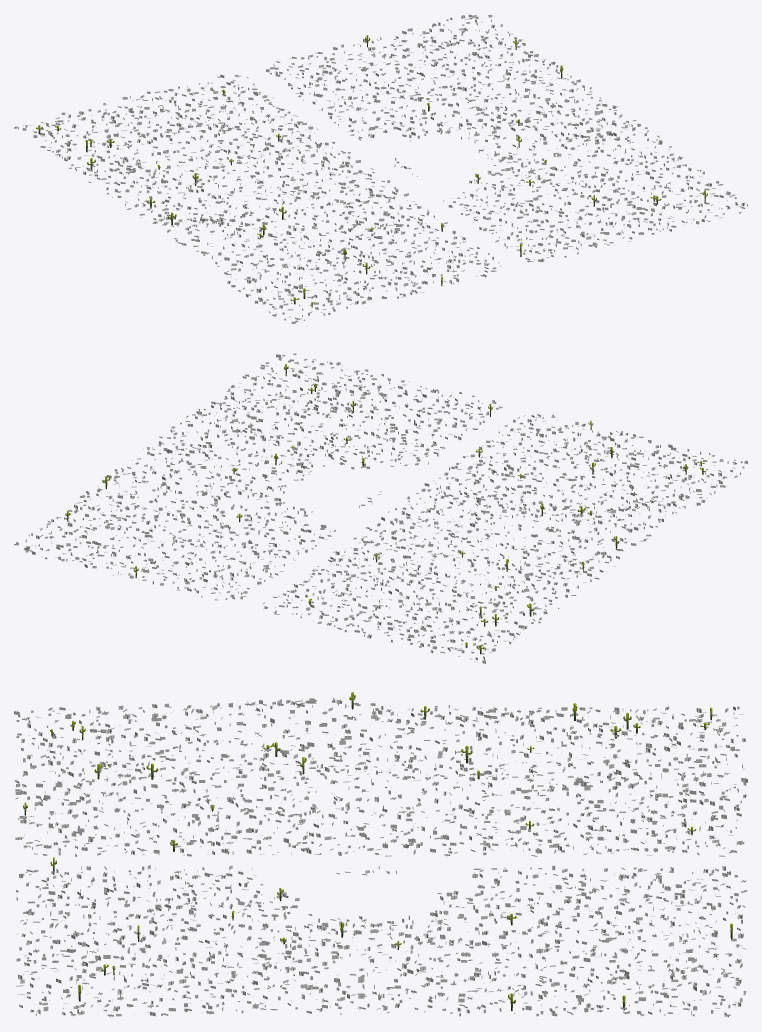
Rendered from FloraDesert1.fbx.
The picture shows the model from 3 angles, top to bottom: view 1: azimuth 30°, elevation 25°; view 2: azimuth 150°, elevation 25°; view 3: azimuth 270°, elevation 25°; orthographic projection. The views are drawn at different scales.
Visible parts, largest first — view 1: Node.001; view 2: Node.001; view 3: Node.001.
Part boxes in pixels (x1,y1,x2,y2): Node.001: (14,14,747,323); Node.001: (14,353,747,663); Node.001: (14,692,747,1017).
Size of the model in its own units: 20143 by 832 by 20153.
